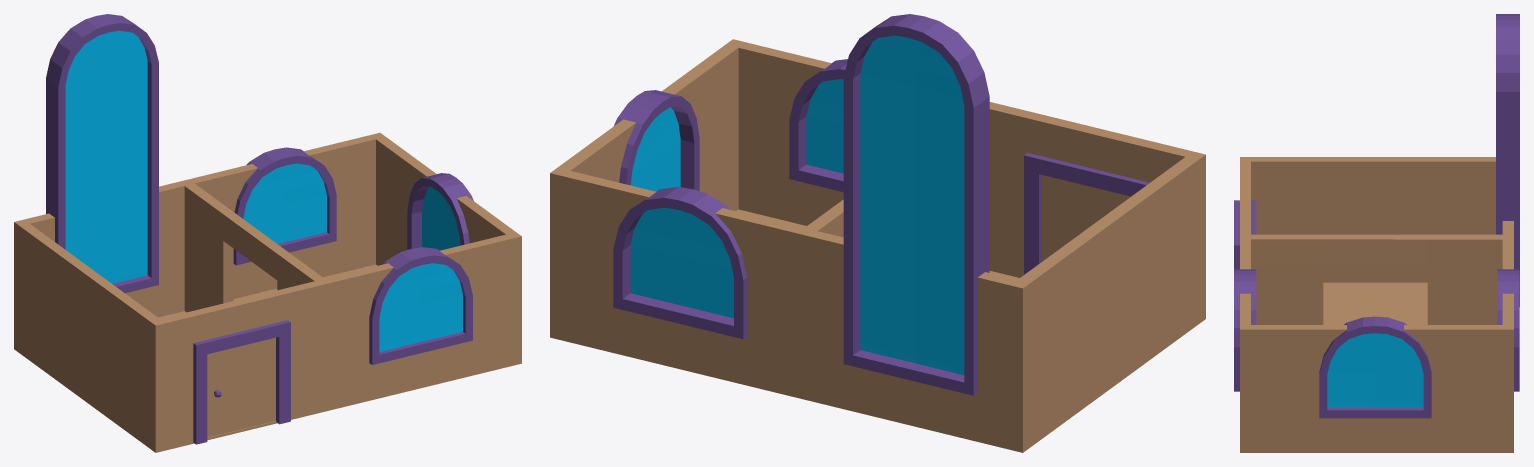
Rendered from CajaCasa 1.2 Interior.fbx.
3 renders of one model, left to right at view 1: azimuth 30°, elevation 25°; view 2: azimuth 150°, elevation 25°; view 3: azimuth 270°, elevation 25°, orthographic. The views are drawn at different scales.
Parts seen in each view (by area): view 1: Cube.004; view 2: Cube.004; view 3: Cube.004.
Part boxes in pixels (left/top/right/bottom): Cube.004: left=14, top=14, right=521, bottom=452; Cube.004: left=550, top=14, right=1205, bottom=452; Cube.004: left=1234, top=14, right=1519, bottom=452.
Size of the model in its own units: 1308 by 1046 by 903.
